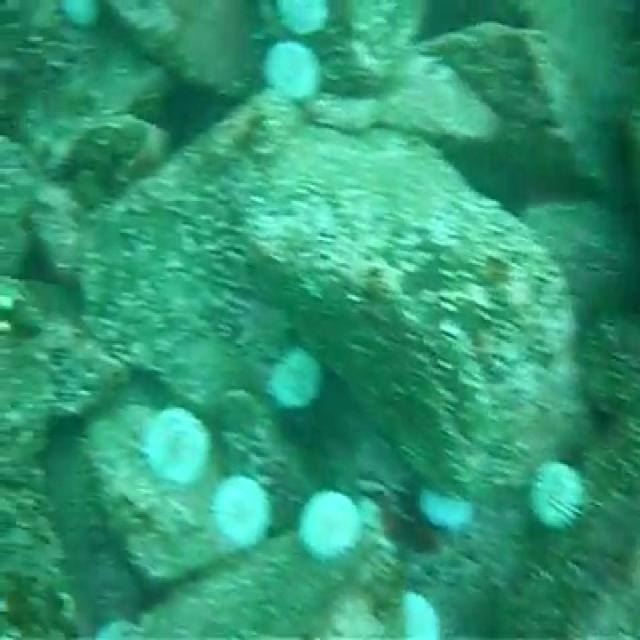Deniz Kestanesi: (290, 484, 364, 563), (140, 401, 207, 480), (530, 452, 590, 536), (264, 338, 329, 414), (210, 475, 270, 547), (260, 38, 324, 102), (419, 466, 477, 534), (396, 578, 458, 640), (269, 0, 332, 32)
